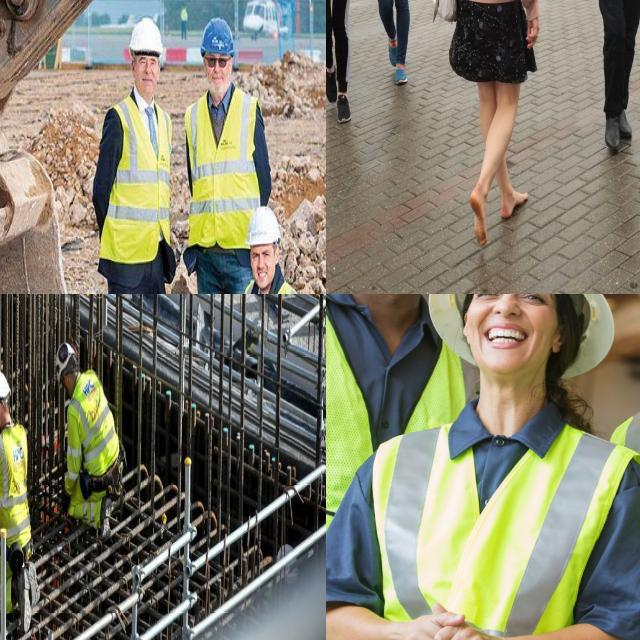Barefoots: (470, 190, 488, 247), (501, 192, 528, 218)
face_nomask: (450, 294, 557, 376), (246, 240, 274, 292), (202, 52, 230, 98), (132, 53, 156, 103)
glasses: (202, 51, 232, 72)
hand_noglove: (384, 609, 518, 640)
head_helmet: (200, 15, 234, 59), (128, 16, 162, 58), (248, 207, 281, 244), (53, 341, 77, 381), (0, 365, 10, 408)
person: (371, 294, 640, 640), (326, 294, 459, 640), (185, 19, 269, 294), (96, 17, 178, 294), (56, 341, 128, 543), (0, 368, 40, 624), (209, 203, 313, 294), (178, 4, 188, 43)
shoes: (15, 566, 32, 633), (25, 559, 42, 612)
vest: (334, 411, 640, 640), (326, 294, 471, 640), (100, 94, 172, 258), (186, 91, 260, 248), (68, 369, 119, 470), (0, 426, 31, 543)
